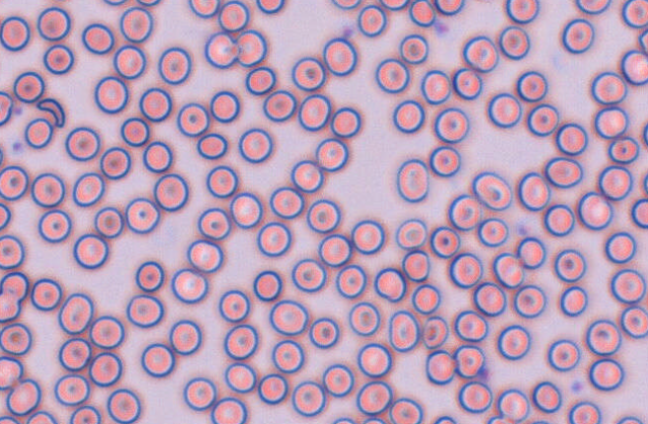PLT: (435, 21, 451, 37), (570, 379, 586, 394), (340, 26, 355, 38)
RBC: (471, 170, 512, 210), (57, 292, 93, 334), (396, 158, 429, 202), (268, 299, 308, 335), (577, 191, 613, 230), (387, 309, 419, 352), (5, 378, 41, 416), (170, 267, 208, 303), (322, 37, 357, 76), (462, 35, 498, 72), (585, 318, 621, 355), (153, 173, 188, 211), (125, 294, 164, 328), (517, 171, 550, 211), (72, 233, 108, 269), (433, 107, 469, 143), (610, 268, 646, 304), (355, 380, 392, 415), (94, 75, 128, 113), (157, 46, 191, 84), (291, 380, 326, 416), (223, 323, 258, 359), (64, 126, 100, 161), (124, 197, 159, 233), (356, 342, 392, 377), (374, 57, 409, 93), (204, 31, 238, 68), (448, 193, 482, 230), (186, 239, 223, 273), (590, 71, 627, 105), (298, 93, 331, 131), (544, 156, 583, 188), (106, 388, 141, 423), (256, 221, 291, 256), (30, 172, 65, 207), (140, 342, 175, 377), (291, 56, 326, 91), (119, 6, 153, 42), (448, 252, 482, 288), (497, 324, 531, 360), (487, 92, 521, 128), (238, 127, 272, 163), (229, 191, 262, 228), (112, 44, 146, 79), (88, 351, 122, 386), (89, 315, 124, 349), (291, 258, 326, 292), (182, 376, 216, 411), (350, 219, 384, 254), (598, 165, 632, 200), (306, 198, 340, 233), (588, 358, 624, 391), (168, 319, 201, 355), (235, 29, 267, 66), (53, 373, 90, 405), (36, 6, 70, 40), (317, 233, 351, 267), (37, 208, 71, 242), (138, 87, 172, 121), (457, 380, 492, 413), (269, 186, 304, 219), (453, 309, 488, 342), (473, 281, 506, 316), (176, 102, 209, 137), (561, 18, 594, 53), (492, 252, 524, 288), (58, 337, 91, 371), (496, 388, 530, 421), (205, 164, 238, 198), (513, 284, 546, 318), (452, 344, 485, 378), (315, 137, 348, 171), (271, 339, 304, 373), (392, 99, 425, 133), (594, 106, 628, 139), (72, 171, 104, 206), (348, 301, 380, 336), (290, 159, 323, 192), (197, 207, 230, 240), (547, 338, 580, 371), (322, 363, 354, 397), (262, 89, 296, 121), (554, 248, 586, 282), (498, 25, 530, 59), (420, 69, 451, 104), (0, 15, 30, 51), (555, 122, 587, 155), (30, 277, 62, 310), (81, 22, 114, 54), (99, 146, 131, 179), (527, 103, 559, 136), (543, 203, 575, 236), (218, 289, 250, 322), (335, 264, 366, 298), (425, 349, 455, 384), (217, 0, 249, 32), (604, 231, 636, 263), (0, 322, 31, 355), (429, 225, 460, 258), (210, 396, 247, 423), (13, 71, 44, 103), (308, 316, 339, 348), (42, 43, 74, 74), (93, 206, 124, 238), (224, 362, 256, 393), (209, 90, 240, 122), (395, 218, 427, 249), (429, 145, 460, 177), (516, 70, 548, 101), (531, 380, 561, 413), (516, 236, 546, 269), (0, 165, 28, 200), (257, 373, 288, 404), (330, 106, 361, 137), (252, 269, 282, 301), (452, 67, 482, 99), (142, 140, 172, 172), (357, 4, 386, 37), (621, 49, 647, 85), (398, 33, 428, 64), (477, 217, 508, 247), (401, 249, 430, 281), (135, 260, 164, 292), (421, 315, 448, 349), (0, 271, 29, 302), (24, 117, 53, 148), (245, 66, 276, 95), (411, 283, 440, 314), (559, 285, 588, 316), (607, 136, 639, 164), (620, 305, 647, 338), (388, 397, 422, 423), (120, 116, 149, 146), (0, 234, 24, 269), (196, 132, 227, 159), (0, 355, 23, 389), (505, 0, 539, 23), (568, 400, 601, 423), (621, 0, 647, 28), (408, 0, 435, 26), (0, 292, 21, 322), (69, 405, 101, 423), (188, 0, 219, 18), (575, 0, 611, 14), (631, 198, 647, 228), (0, 90, 13, 125), (434, 0, 464, 15), (25, 410, 57, 423), (255, 0, 284, 13), (0, 202, 11, 230), (379, 0, 408, 10), (331, 0, 361, 9), (638, 27, 647, 54), (486, 415, 515, 423), (614, 415, 643, 423), (432, 415, 457, 423), (331, 416, 356, 423), (642, 120, 648, 147), (0, 415, 20, 423), (135, 0, 161, 6), (362, 417, 386, 423), (102, 0, 128, 5), (642, 171, 647, 196), (0, 143, 4, 166), (529, 419, 551, 423), (49, 0, 72, 2), (0, 0, 12, 3)
Schistocyte: (422, 317, 450, 348), (37, 97, 65, 127)
